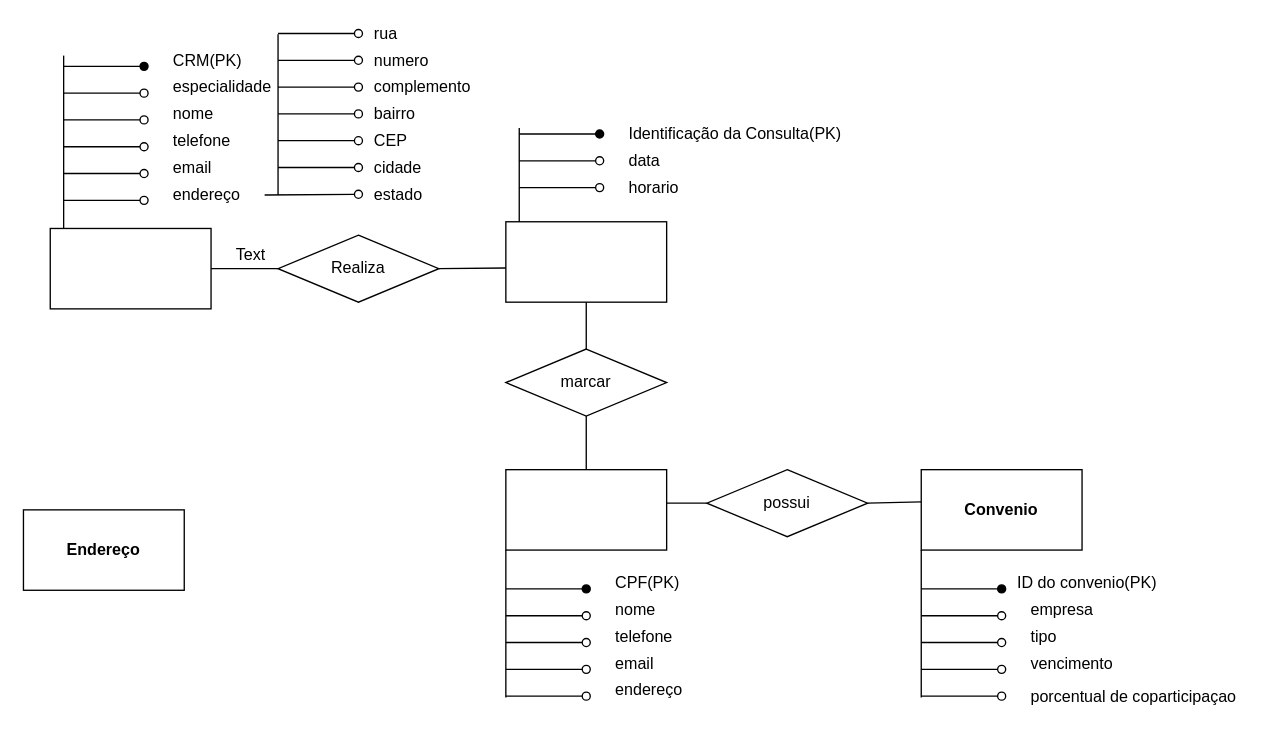
Image size: 1266x733. Some labels were removed from this diagram. Each missing label, with the centre of its shape:
Consulta: point 586,261
Medico: point 130,268
Paciente: point 586,509
